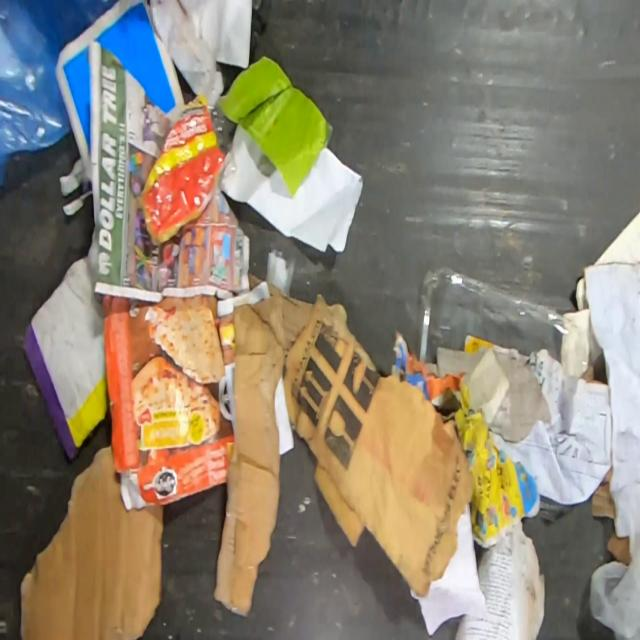cardboard: (212, 282, 316, 618), (18, 444, 165, 640), (102, 293, 234, 509), (20, 255, 108, 464), (312, 459, 365, 548), (590, 463, 617, 521), (605, 529, 630, 567)
rigid_plastic: (416, 263, 591, 378)
soft_plastic: (136, 84, 237, 247), (588, 533, 640, 640)
